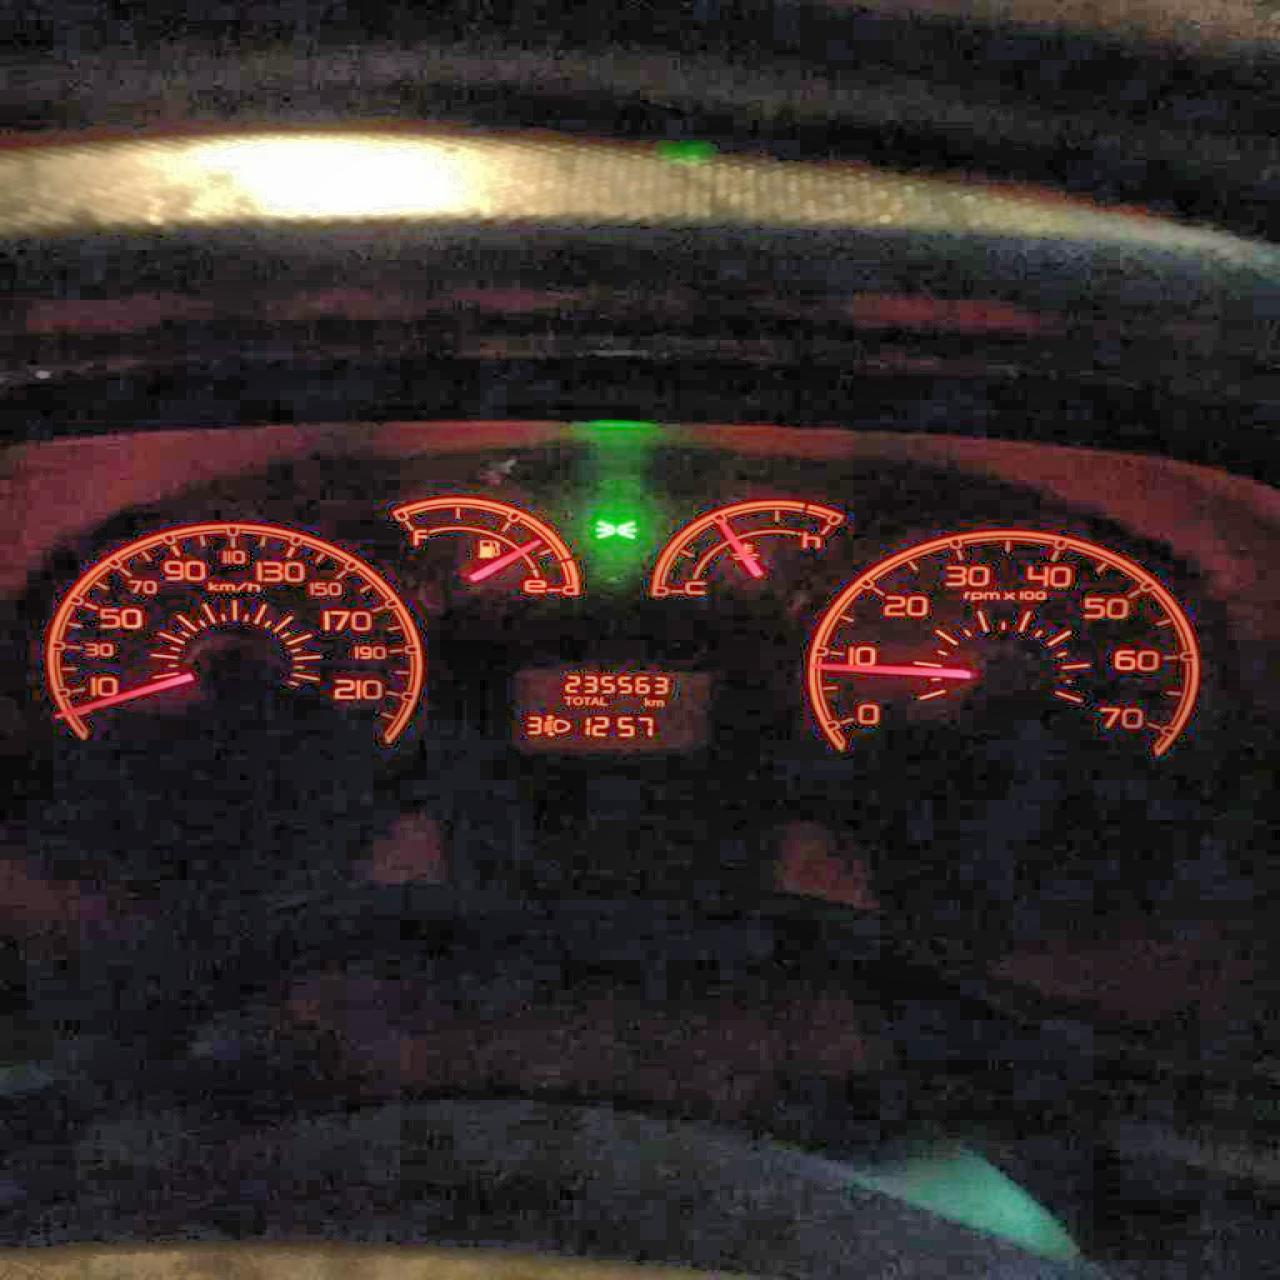1: (584, 715, 588, 736)
2: (592, 714, 608, 736), (564, 674, 580, 693)
3: (526, 714, 540, 733), (654, 675, 668, 694), (584, 673, 594, 693)
5: (614, 715, 633, 736), (598, 675, 614, 693), (617, 674, 631, 693)
6: (633, 675, 649, 694)
7: (639, 714, 654, 735)
X: (648, 697, 665, 708), (572, 695, 581, 704), (641, 696, 651, 706), (599, 695, 608, 704), (590, 695, 598, 704), (564, 694, 570, 704), (584, 695, 590, 704)
odometer: (505, 665, 702, 750)
